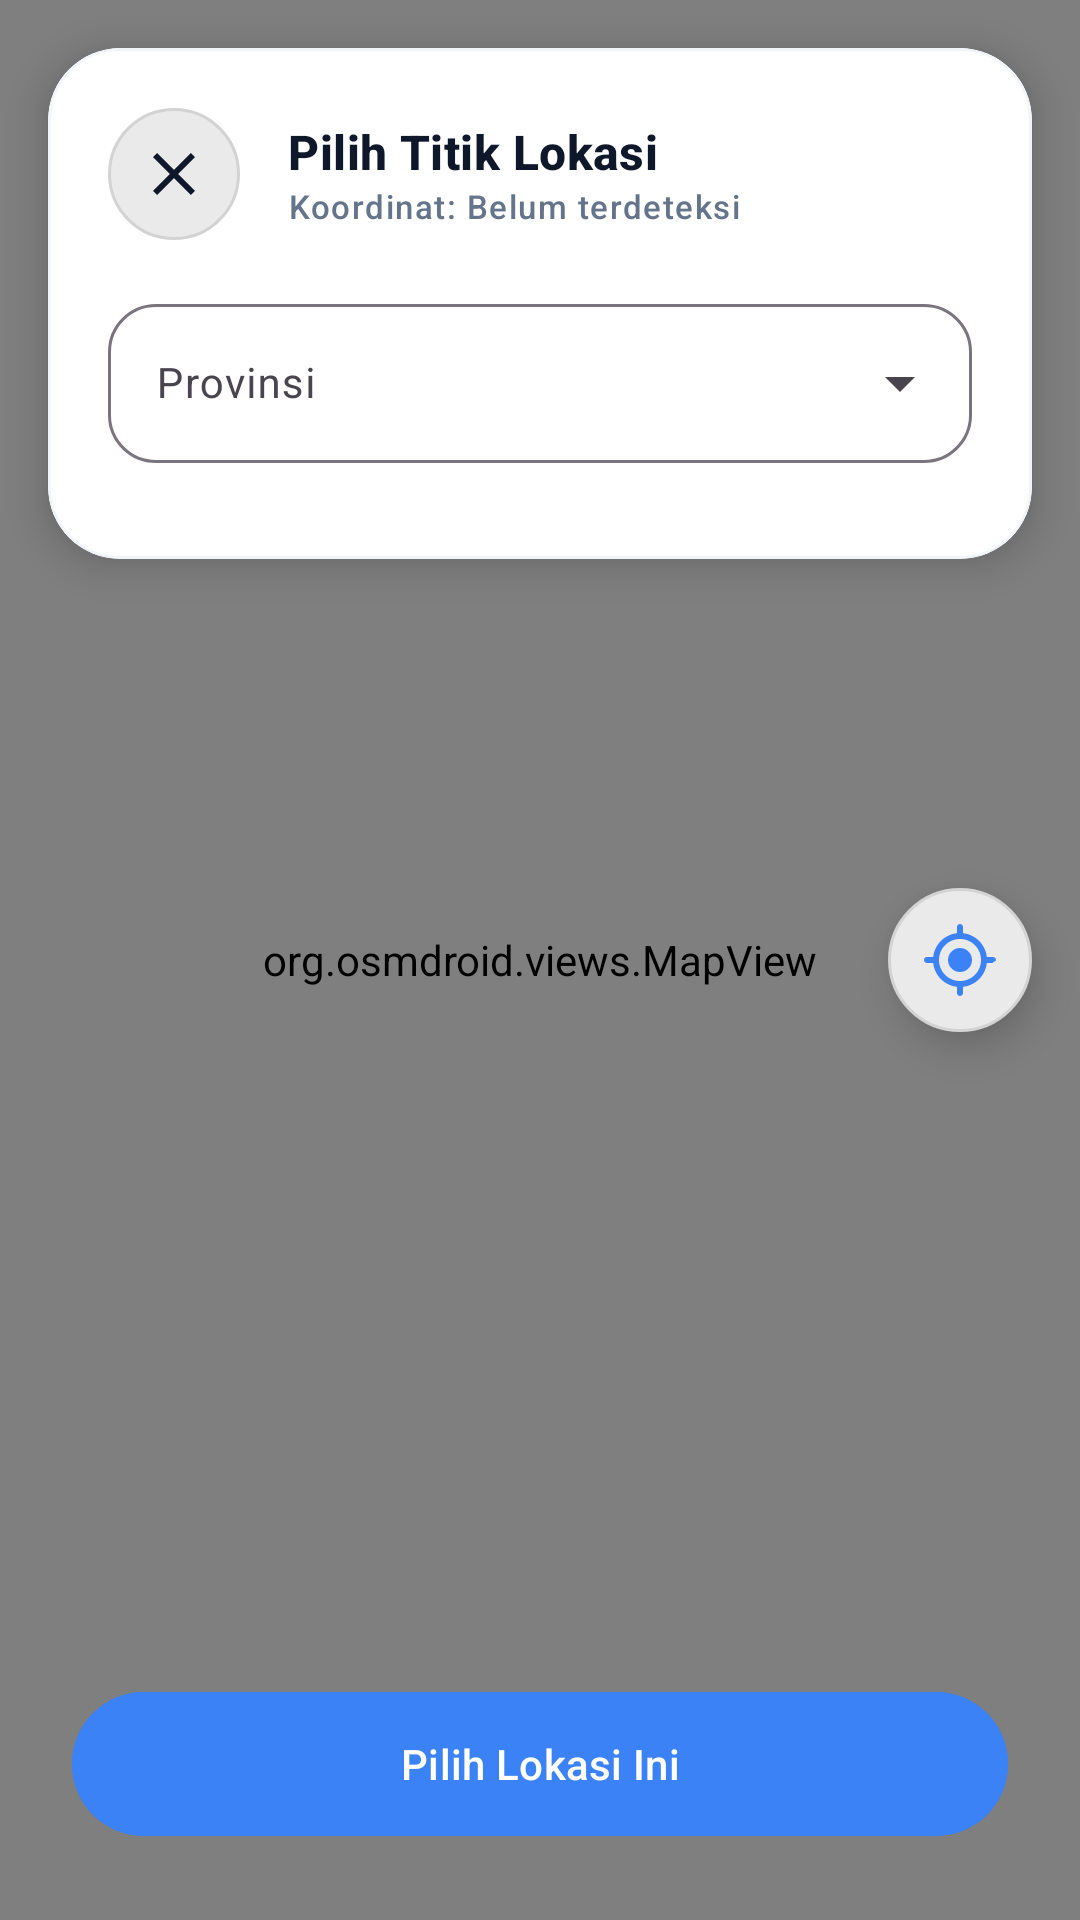

Icon bounding boxes for this 1080*1920 phone screenshot, format BBox(x1, y1, x2, y2):
Lokasi Saya: BBox(888, 888, 1032, 1032)
Tutup: BBox(108, 108, 240, 240)
